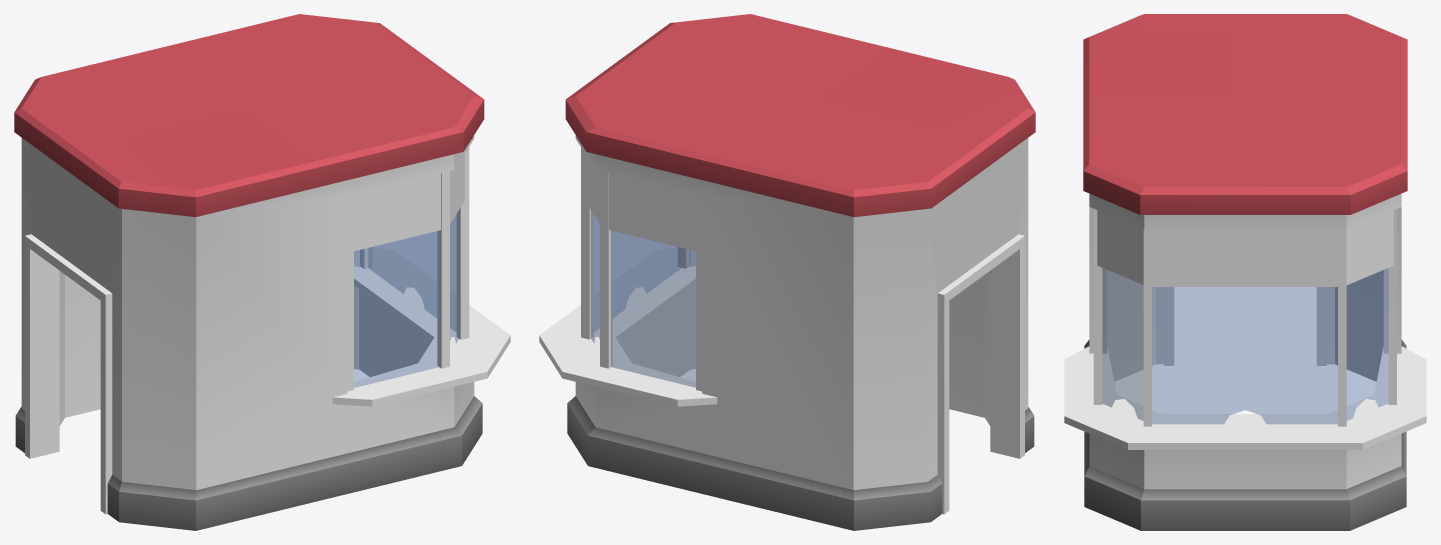
File: sf_booth.glb
3 views of the same model, side by side, from view 1: azimuth 30°, elevation 25°; view 2: azimuth 150°, elevation 25°; view 3: azimuth 270°, elevation 25° (orthographic).
Visible parts, largest first — view 1: TicketBooth_0; view 2: TicketBooth_0; view 3: TicketBooth_0.
Boxes of the visible parts, bbox=[...] form: TicketBooth_0: bbox=[14, 14, 510, 530]; TicketBooth_0: bbox=[539, 14, 1035, 530]; TicketBooth_0: bbox=[1064, 14, 1426, 530].
Size of the model in its own units: 2.99 by 2.5 by 2.41.
